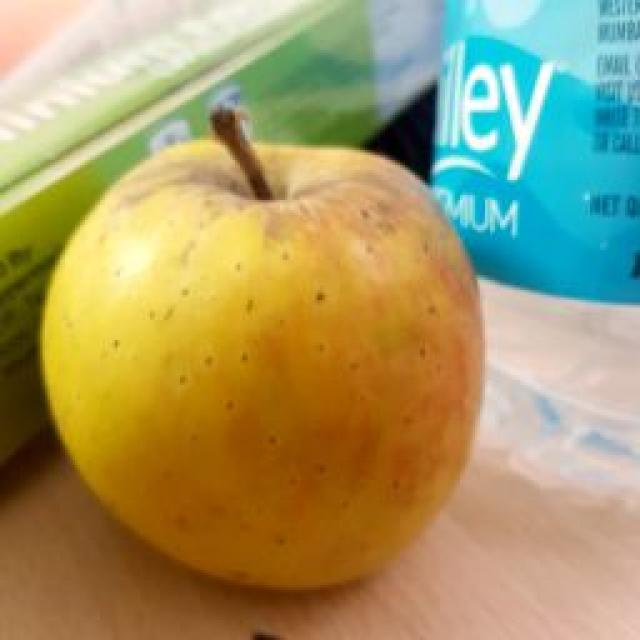Good_Apple: (38, 90, 485, 595)
